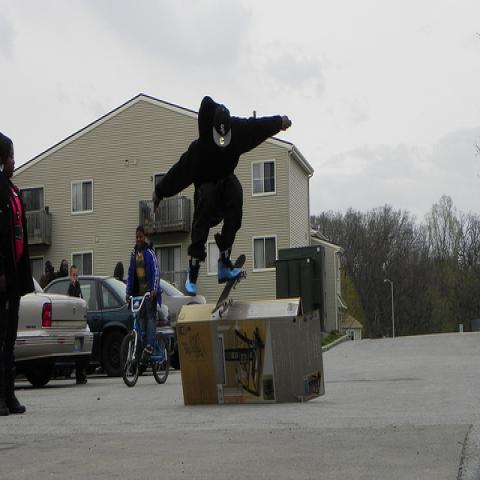car: (15, 272, 96, 387), (45, 276, 130, 370), (156, 279, 207, 353)
